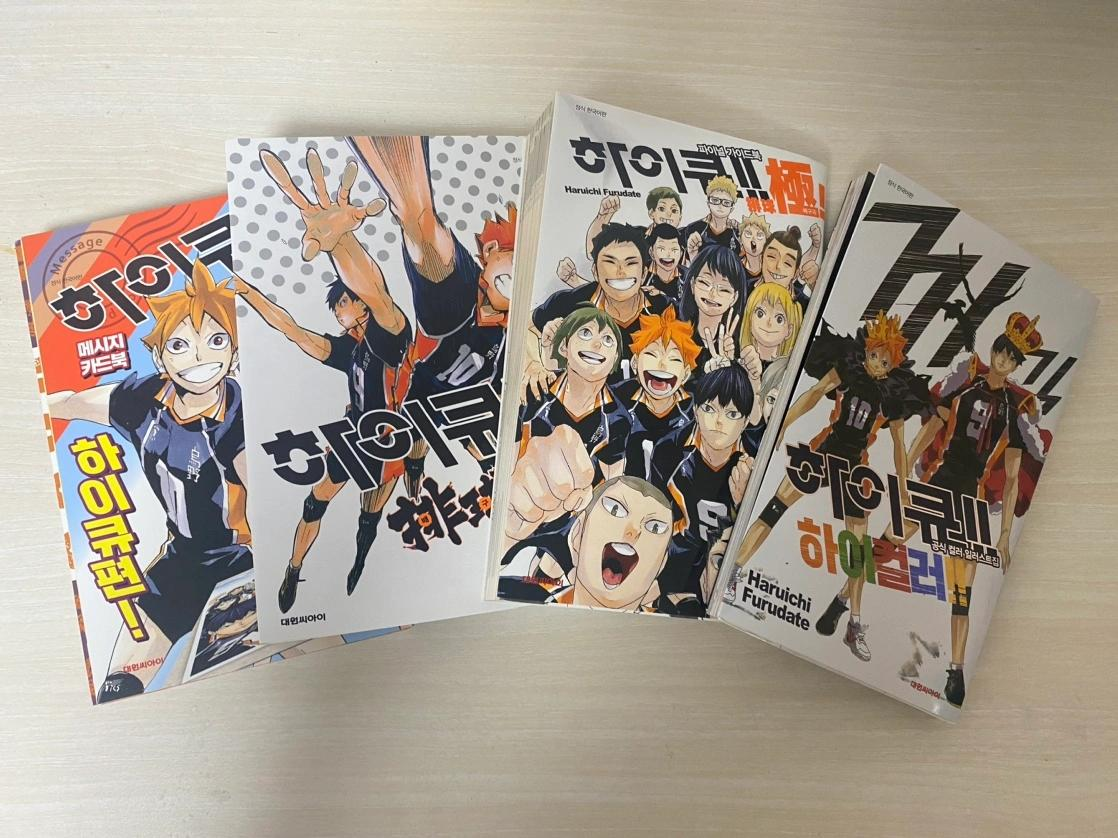book: (709, 161, 1100, 725), (10, 196, 422, 704), (483, 89, 829, 617), (224, 138, 569, 652)
